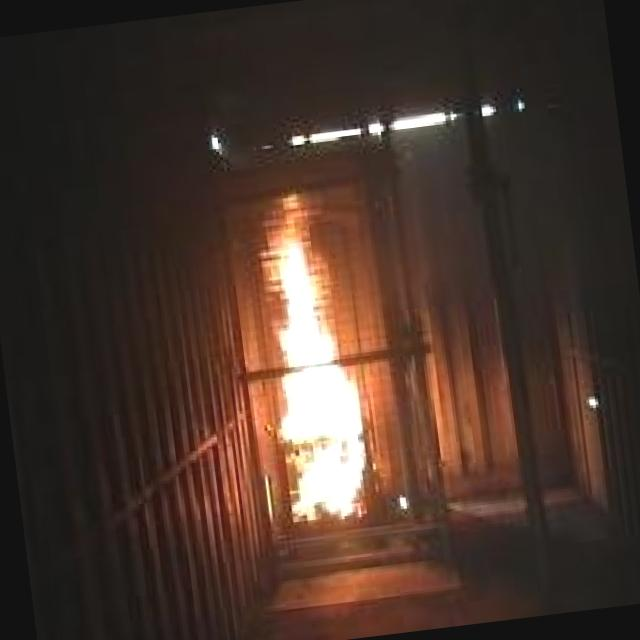fire: (235, 208, 378, 519)
